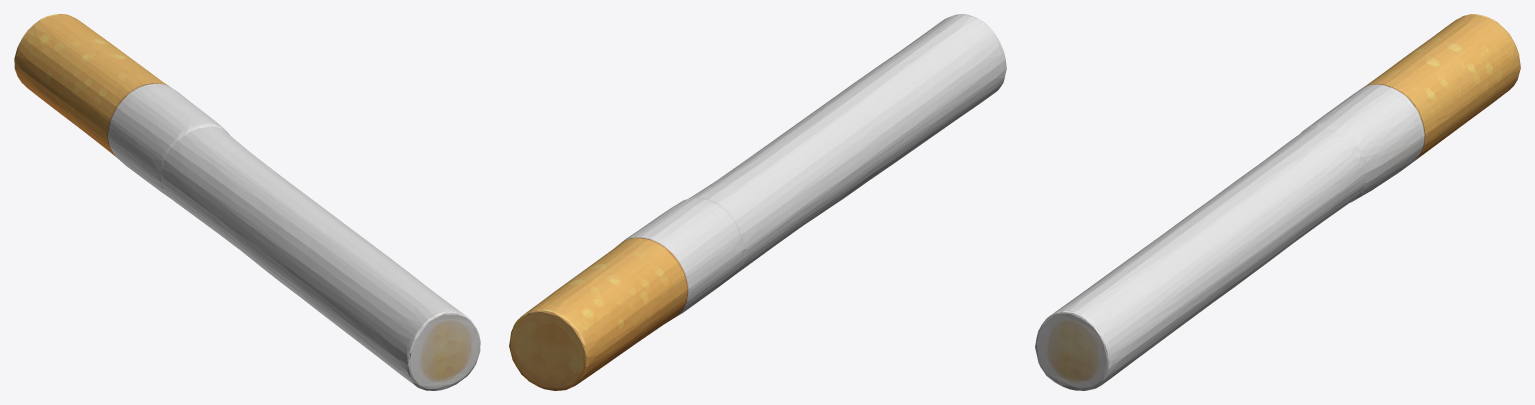
The model's file is condom.glb.
3 views of the same model, side by side, from view 1: azimuth 30°, elevation 25°; view 2: azimuth 150°, elevation 25°; view 3: azimuth 330°, elevation 25° (orthographic). The views are drawn at different scales.
Visible parts, largest first — view 1: world; view 2: world; view 3: world.
Boxes of the visible parts, bbox=[...] form: world: bbox=[14, 14, 480, 390]; world: bbox=[509, 14, 1006, 390]; world: bbox=[1035, 14, 1520, 390].
Size of the model in its own units: 0.1194 by 0.1132 by 0.9994.
Materials: 1 (1 with a texture image).
